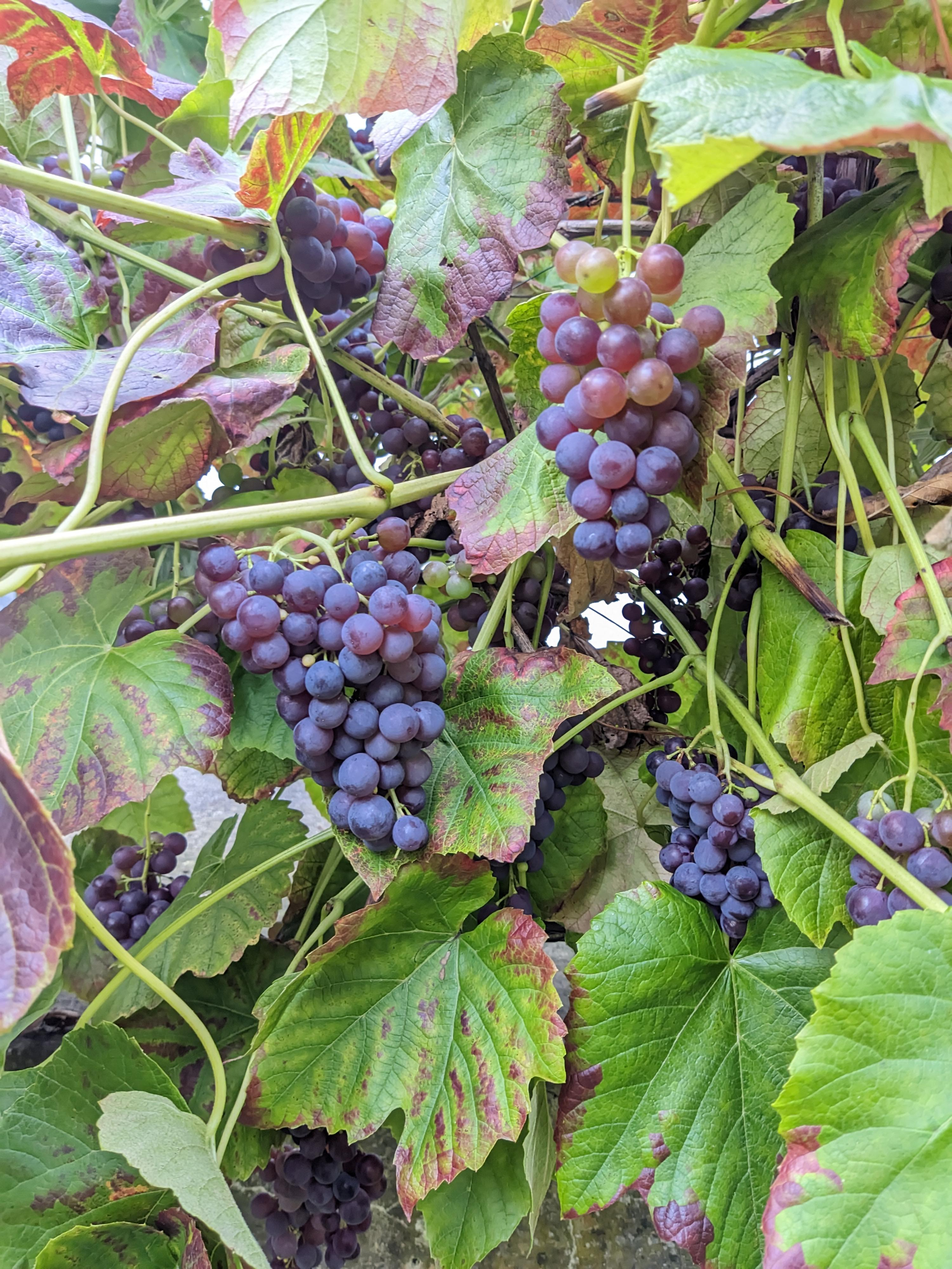Grape Unripe: (195, 518, 447, 853), (536, 239, 725, 570), (311, 449, 553, 651), (309, 313, 507, 472), (204, 170, 394, 322), (646, 736, 777, 937), (479, 721, 606, 920), (724, 474, 857, 664), (252, 1124, 388, 1269), (623, 526, 713, 723), (847, 790, 952, 925), (85, 832, 192, 942), (41, 155, 130, 242), (7, 365, 65, 441), (789, 177, 864, 235), (926, 265, 952, 349)
